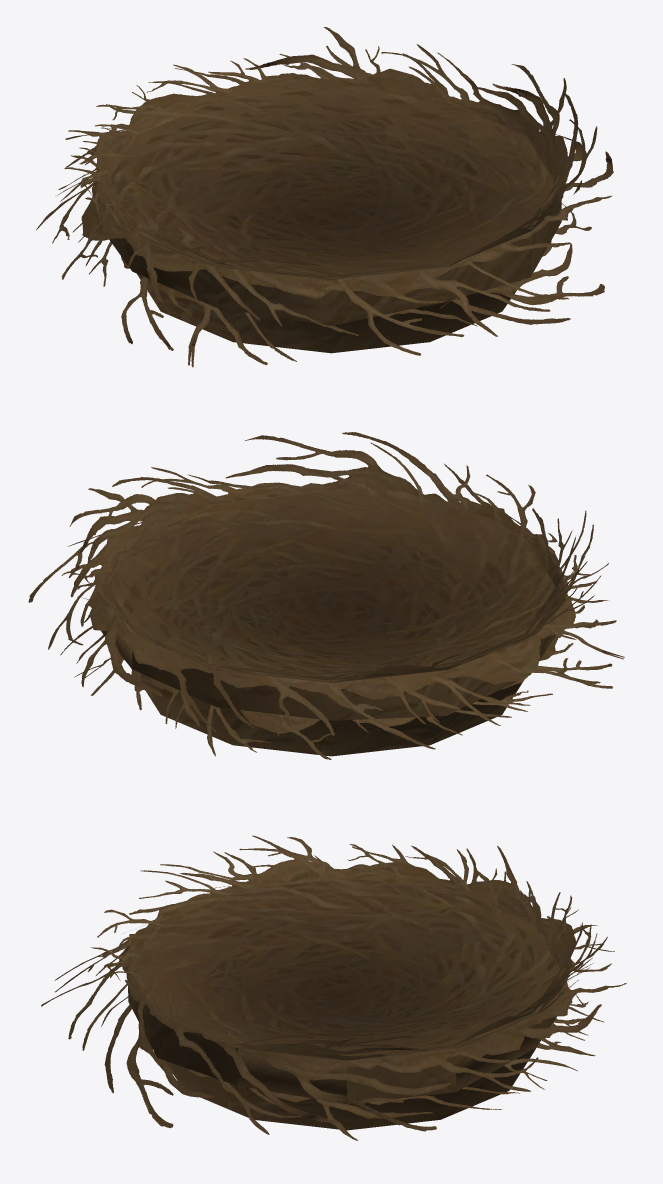
3 renders of one model, top to bottom at view 1: azimuth 30°, elevation 25°; view 2: azimuth 150°, elevation 25°; view 3: azimuth 270°, elevation 25°, orthographic. The views are drawn at different scales.
Bounding box in the file's own units: 16.06 × 4.27 × 15.26.
Materials: 1 (1 with a texture image).
